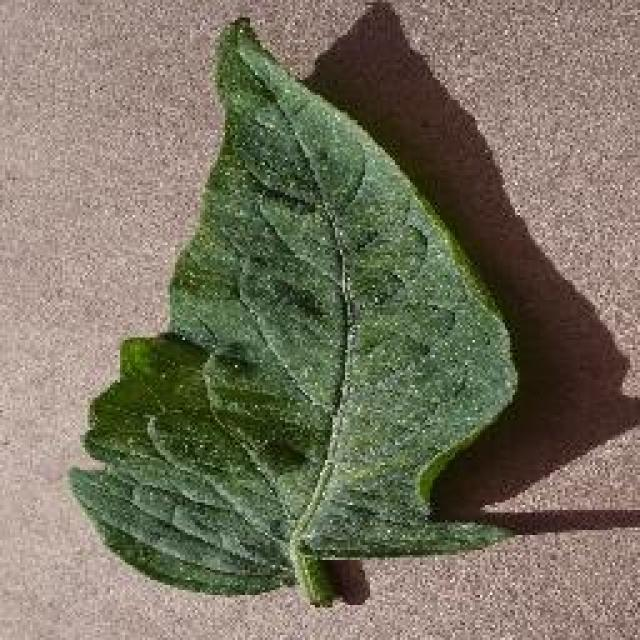Tomato mosaic virus leaf: (68, 20, 518, 595)
